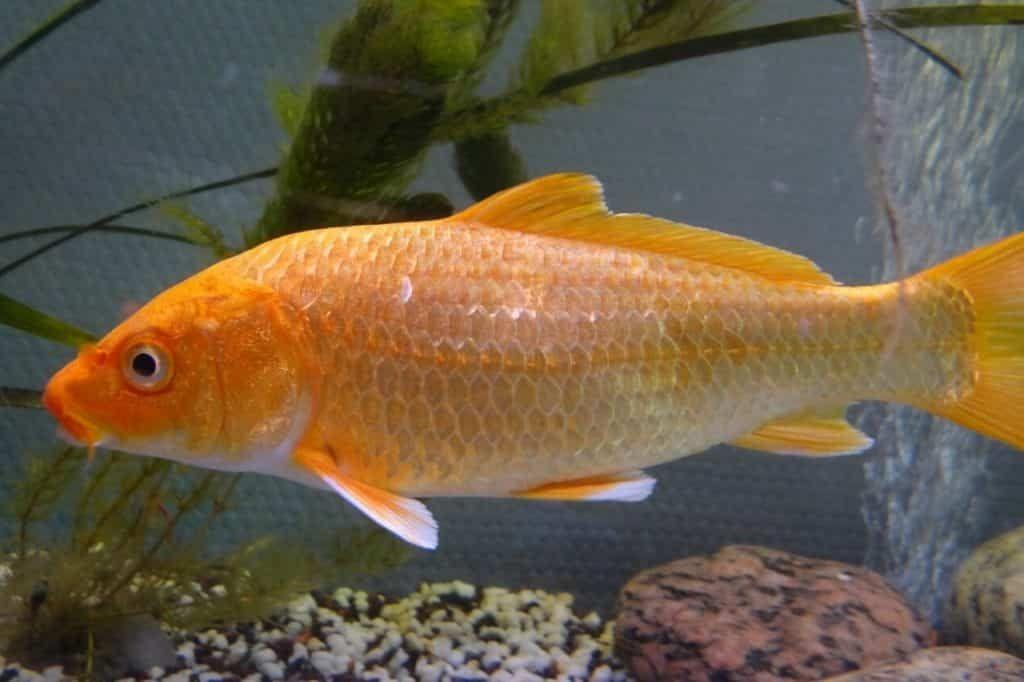Gold Fish: (46, 170, 1024, 553)
